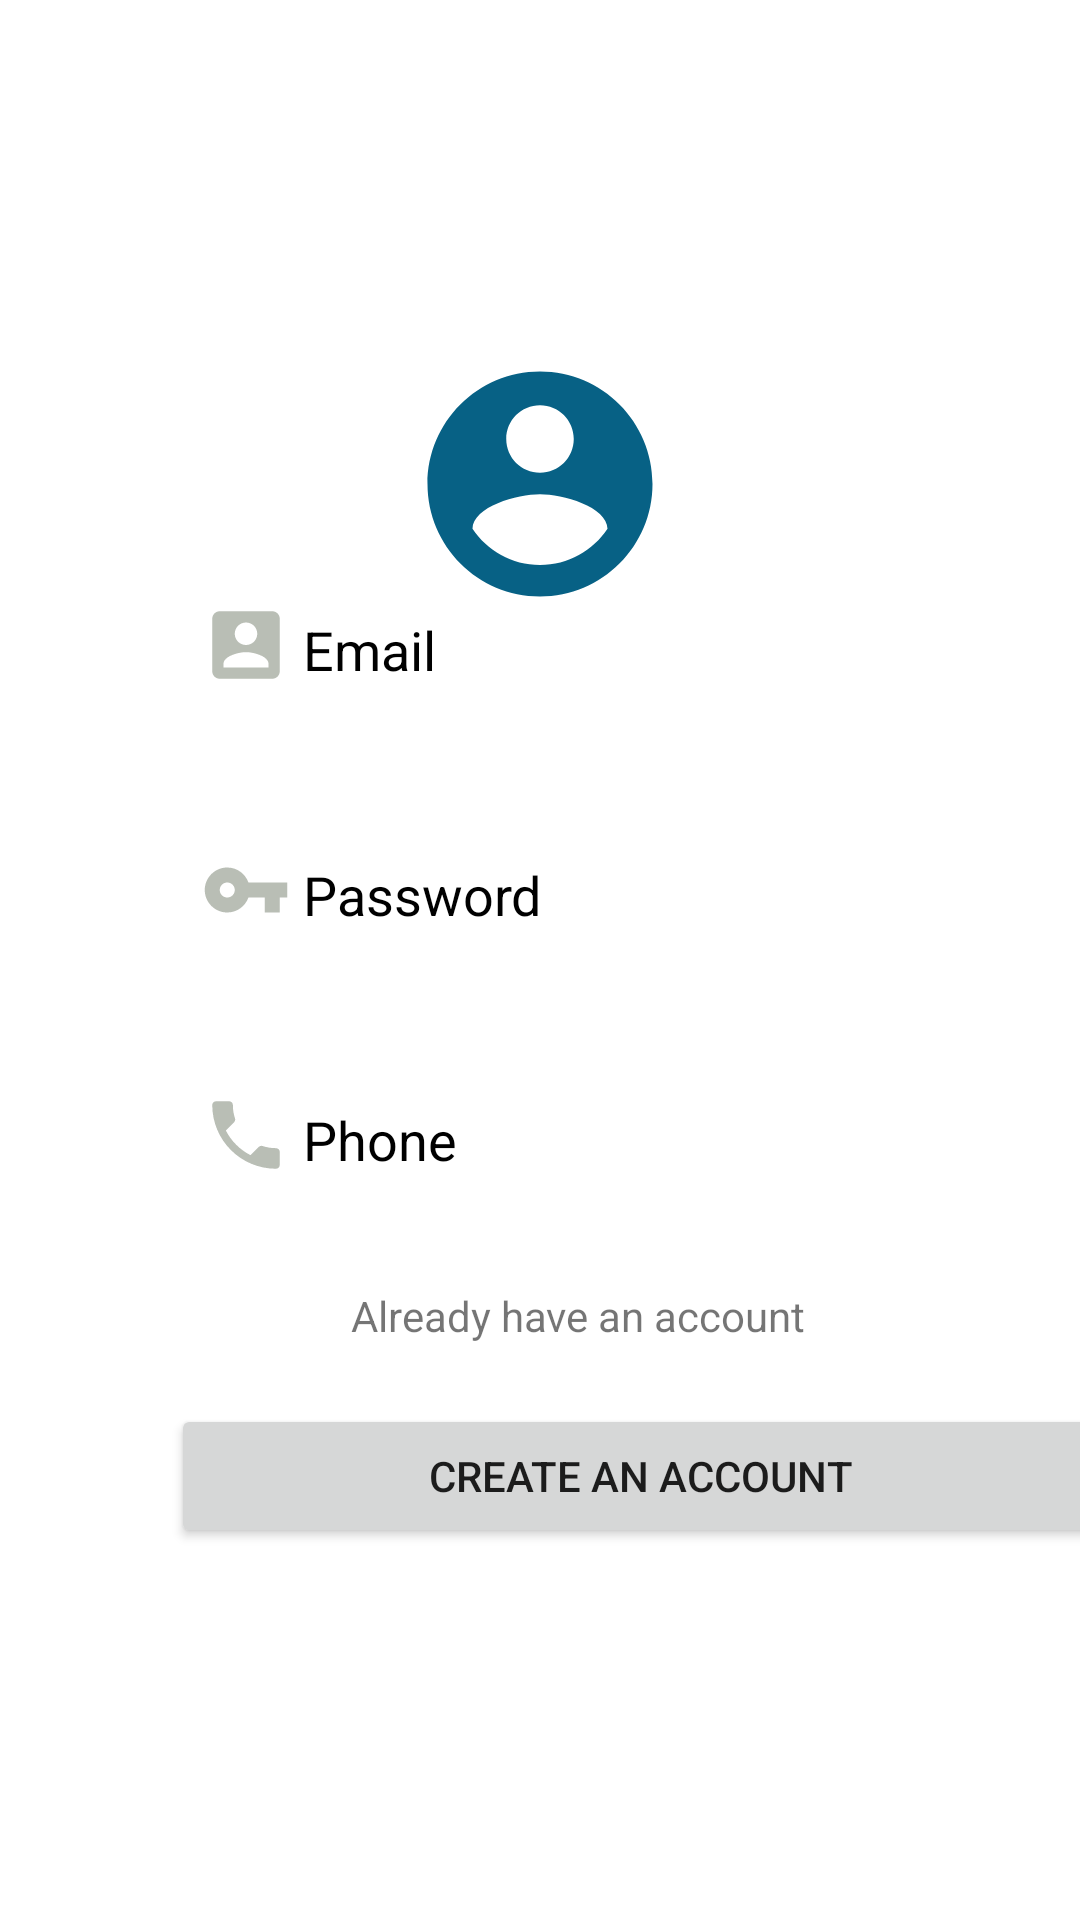

Point at icon controls on the screen. Image size 1080 × 1920, points as (x,y).
user: (540,484), (246,645)
